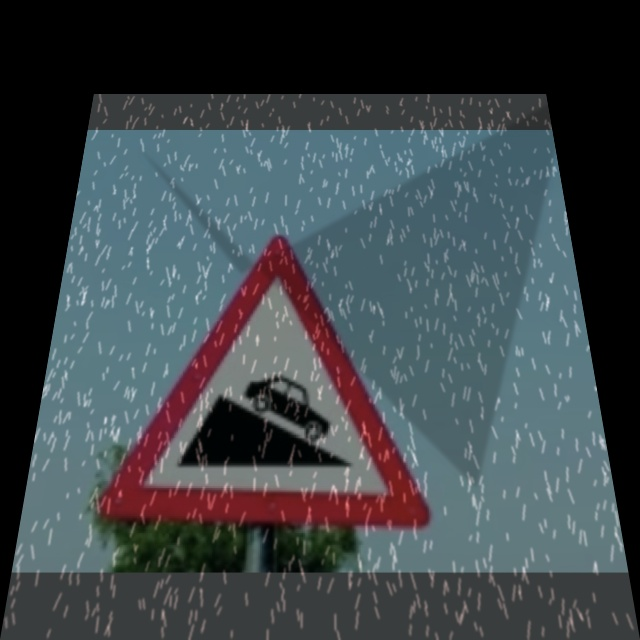Steep_Descent: (100, 239, 426, 523)
